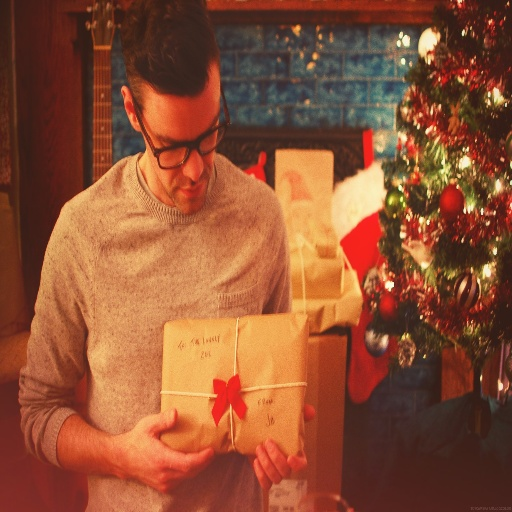hand: (93, 401, 222, 471), (245, 402, 315, 493)
